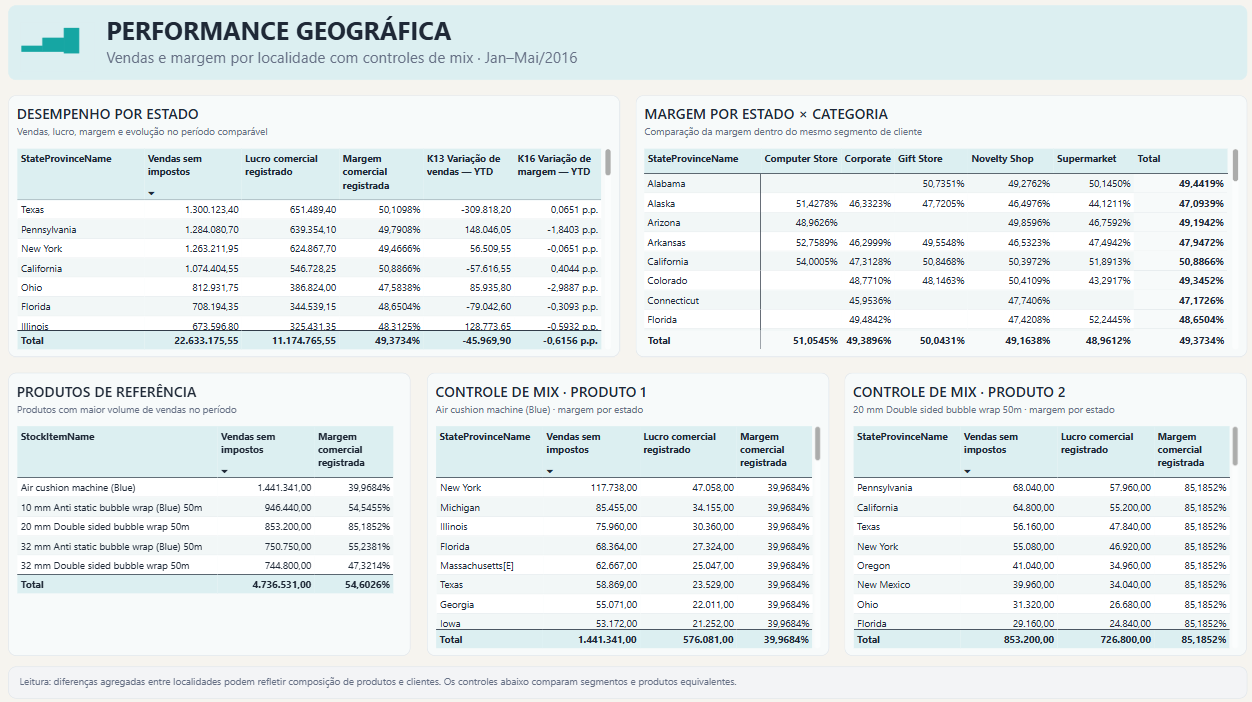

Layout of this report page (visuals, bound fields, positions):
{"tool":"powerbi","page":{"name":"06_Q06_Geografia","canvas":[1920,1080],"ordinal":6},"visuals":[{"type":"tableEx","title":"DESEMPENHO POR ESTADO","fields":{"Values":["DimGeography.StateProvinceName","_Medidas.Vendas sem impostos","_Medidas.Lucro comercial registrado","_Medidas.Margem comercial registrada","_Medidas.K13 Variação de vendas — YTD","_Medidas.K16 Variação de margem — YTD"]},"box":[32,152,916,392],"z":0},{"type":"pivotTable","title":"MARGEM POR ESTADO × CATEGORIA","fields":{"Columns":["DimBuyer.CustomerCategoryName"],"Rows":["DimGeography.StateProvinceName"],"Values":["_Medidas.Margem comercial registrada"]},"box":[972,152,916,392],"z":1000},{"type":"tableEx","title":"PRODUTOS DE REFERÊNCIA","fields":{"Values":["DimProduct.StockItemName","_Medidas.Vendas sem impostos","_Medidas.Margem comercial registrada"]},"box":[32,568,602.7,424],"z":2000},{"type":"tableEx","title":"CONTROLE DE MIX · PRODUTO 1","fields":{"Values":["DimGeography.StateProvinceName","_Medidas.Vendas sem impostos","_Medidas.Lucro comercial registrado","_Medidas.Margem comercial registrada"]},"box":[658.7,568,602.7,424],"z":3000},{"type":"tableEx","title":"CONTROLE DE MIX · PRODUTO 2","fields":{"Values":["DimGeography.StateProvinceName","_Medidas.Vendas sem impostos","_Medidas.Lucro comercial registrado","_Medidas.Margem comercial registrada"]},"box":[1285.3,568,602.7,424],"z":4000},{"type":"textbox","box":[32,16,1856,112],"z":10000},{"type":"textbox","box":[50.6,43.1,110.5,73],"z":11000},{"type":"textbox","box":[32,1008,1856,48],"z":12000}]}

Visuals, with their boxes in screenshot pixels (x1, y1, x2, y2), scaled from the page's 1920x1080 canvas onto the 1252x702 screenshot:
"DESEMPENHO POR ESTADO" tableEx: [x1=21, y1=99, x2=618, y2=354]
"MARGEM POR ESTADO × CATEGORIA" pivotTable: [x1=634, y1=99, x2=1231, y2=354]
"PRODUTOS DE REFERÊNCIA" tableEx: [x1=21, y1=369, x2=414, y2=645]
"CONTROLE DE MIX · PRODUTO 1" tableEx: [x1=430, y1=369, x2=823, y2=645]
"CONTROLE DE MIX · PRODUTO 2" tableEx: [x1=838, y1=369, x2=1231, y2=645]
textbox: [x1=21, y1=10, x2=1231, y2=83]
textbox: [x1=33, y1=28, x2=105, y2=75]
textbox: [x1=21, y1=655, x2=1231, y2=686]
